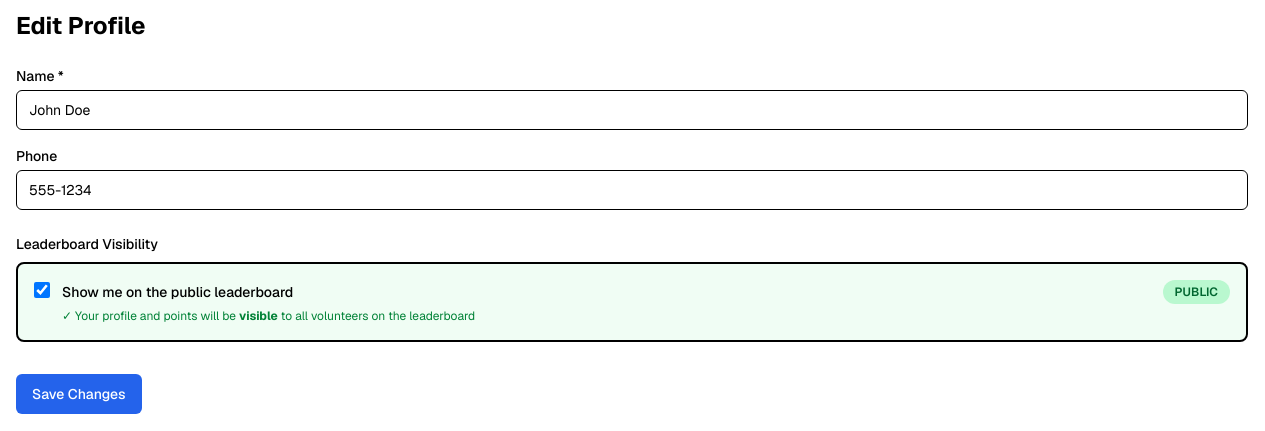
Scenario: ProfileEditForm › Leaderboard Opt-In Toggle › should toggle leaderboard opt-in when checkbox is clicked
The width and height of the screenshot is (1265, 431).
Click the checkbox labelled "Show me on the public leaderboard".
click(42, 290)  # box [34,282,50,298]
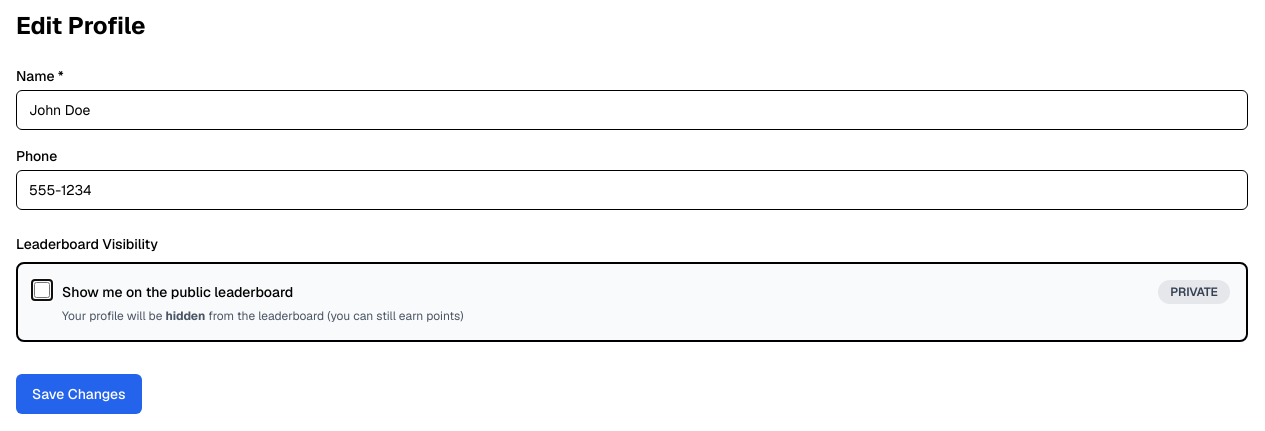
Expected: the checkbox labelled "Show me on the public leaderboard" is not checked
Expected: the text "PRIVATE" is shown, [1158,280,1230,304]
Click the checkbox labelled "Show me on the public leaderboard".
click(42, 290)  # box [34,282,50,298]
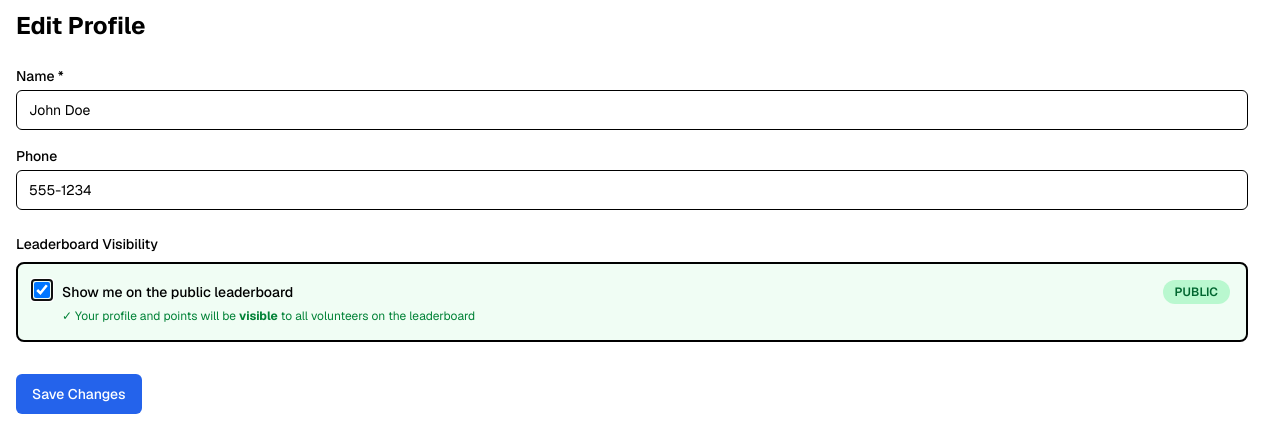
Expected: the checkbox labelled "Show me on the public leaderboard" is checked, [34,282,50,298]
Expected: the text "PUBLIC" is shown, [1163,280,1230,304]
